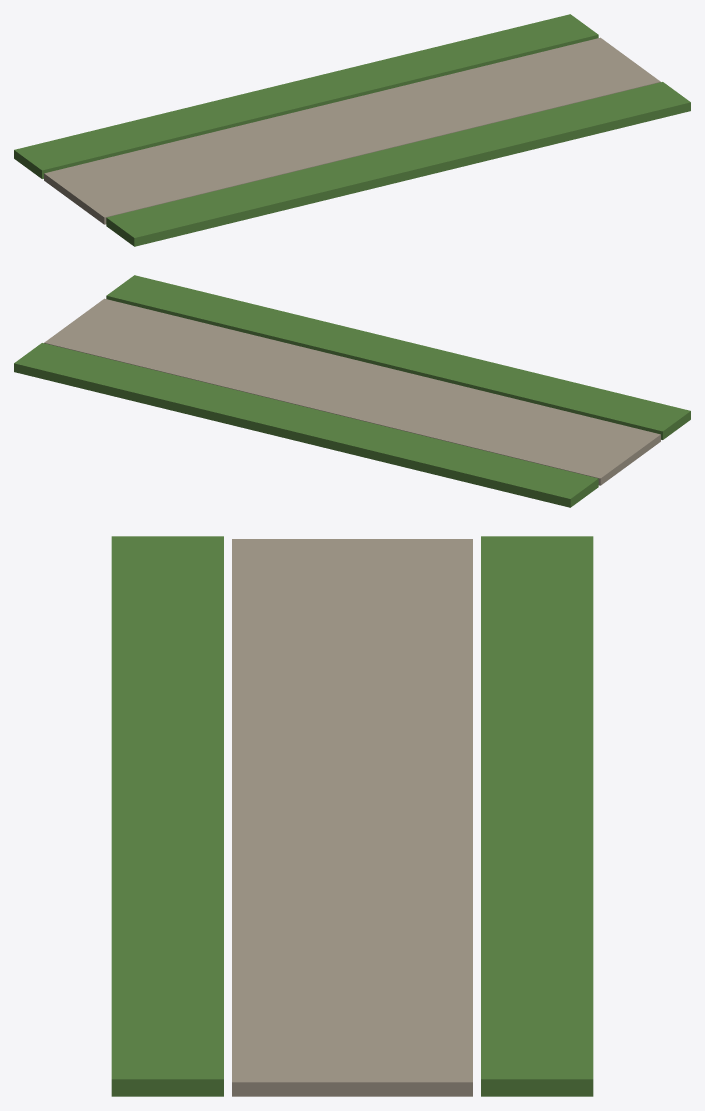
Rendered from f36-towpath-section.glb.
The picture shows the model from 3 angles, top to bottom: view 1: azimuth 30°, elevation 25°; view 2: azimuth 150°, elevation 25°; view 3: azimuth 270°, elevation 25°; orthographic projection. The views are drawn at different scales.
Parts seen in each view (by area): view 1: part0, part1, part2; view 2: part0, part2, part1; view 3: part0, part1, part2.
Boxes of the visible parts, <box> form: part0: <box>44,37,660,224</box>; part1: <box>106,82,690,246</box>; part2: <box>14,14,598,178</box>; part0: <box>44,298,660,485</box>; part2: <box>14,343,598,507</box>; part1: <box>106,275,690,439</box>; part0: <box>232,539,472,1096</box>; part1: <box>111,536,223,1096</box>; part2: <box>481,536,593,1096</box>.
Size of the model in its own units: 8000 by 120 by 3000.
